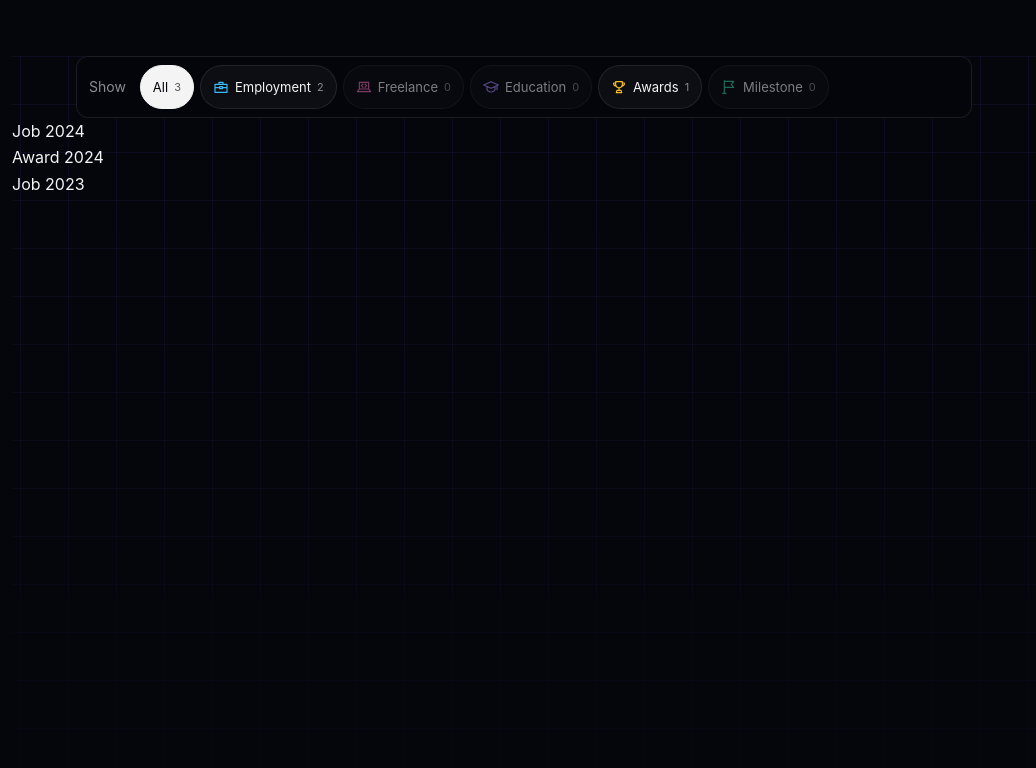
Scenario: JourneyFilter › shows one entry type and hides years left empty
Click the button "Awards 1" at (650, 87), box x1=598 y1=65 x2=702 y2=109
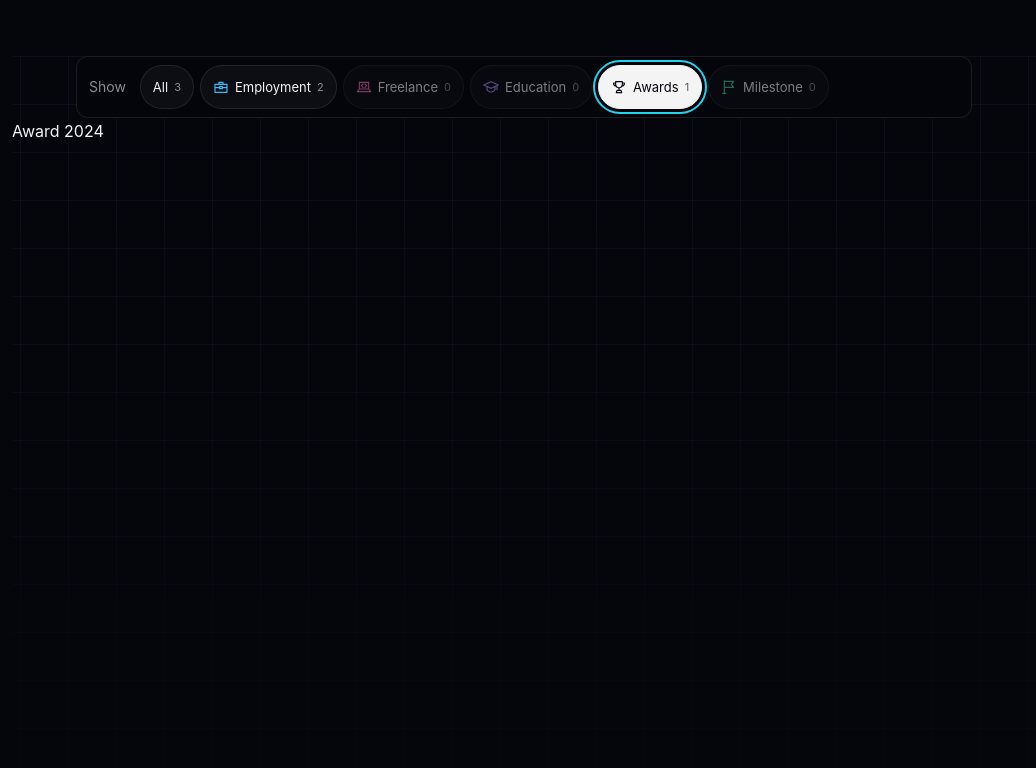
Expected: the list item "Award 2024" is shown, x1=12 y1=121 x2=104 y2=141
Expected: the list item "Job 2024" is gone
Expected: the list item with test id "y2023" is gone
Click the button "All 3" at (167, 87), box x1=140 y1=65 x2=194 y2=109
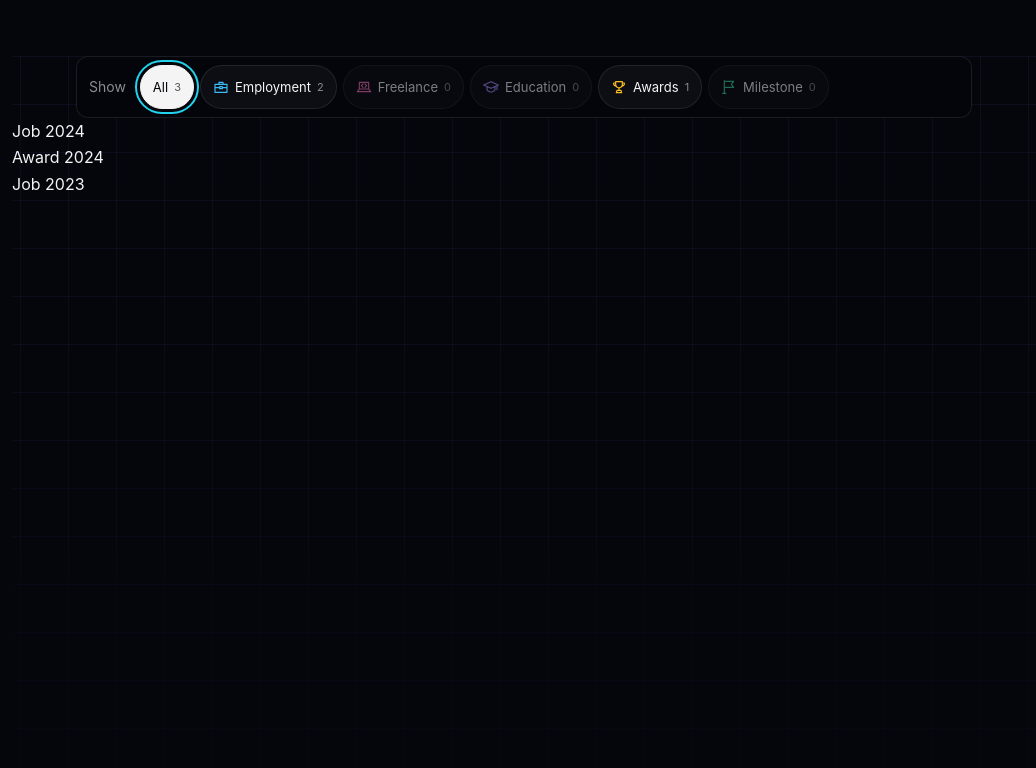
Expected: the list item "Job 2023" is shown, x1=12 y1=174 x2=84 y2=194
